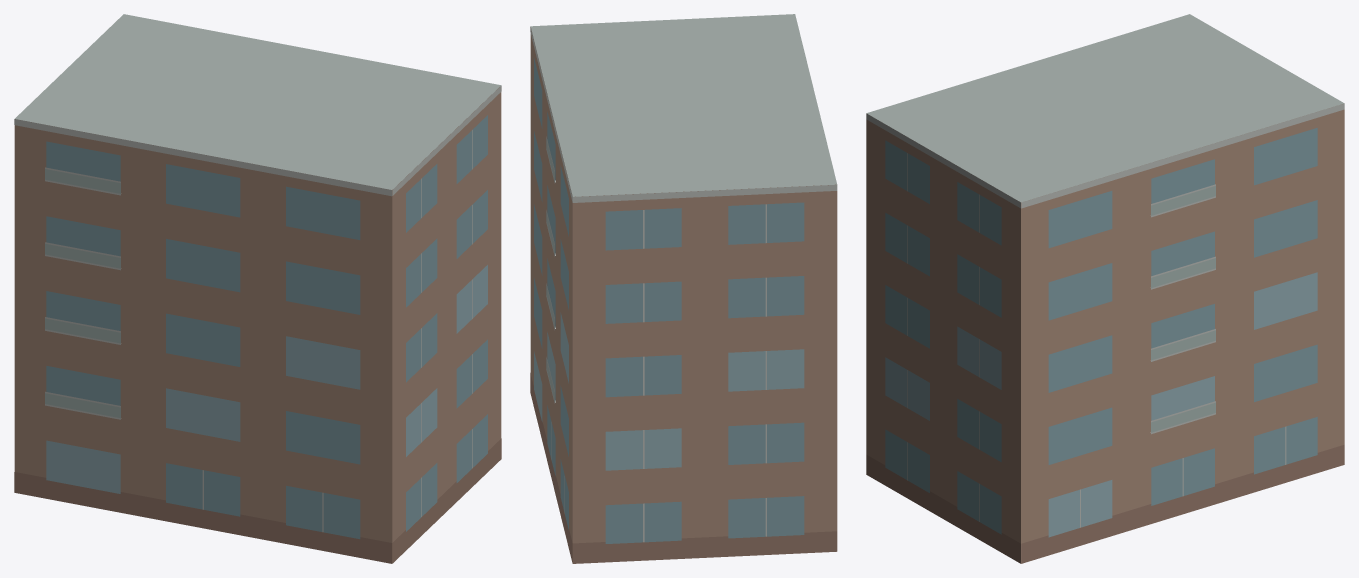
Rendered from survey-upis-32945844.glb.
The picture shows the model from 3 angles, left to right: view 1: azimuth 30°, elevation 25°; view 2: azimuth 150°, elevation 25°; view 3: azimuth 270°, elevation 25°; orthographic projection. The views are drawn at different scales.
Parts seen in each view (by area): view 1: survey-upis-32945844.tmp; view 2: survey-upis-32945844.tmp; view 3: survey-upis-32945844.tmp.
Part boxes in pixels (bbox=[...]): survey-upis-32945844.tmp: bbox=[14, 14, 501, 563]; survey-upis-32945844.tmp: bbox=[530, 14, 837, 563]; survey-upis-32945844.tmp: bbox=[866, 14, 1344, 563].
Size of the model in its own units: 16.23 by 14.5 by 17.41.
